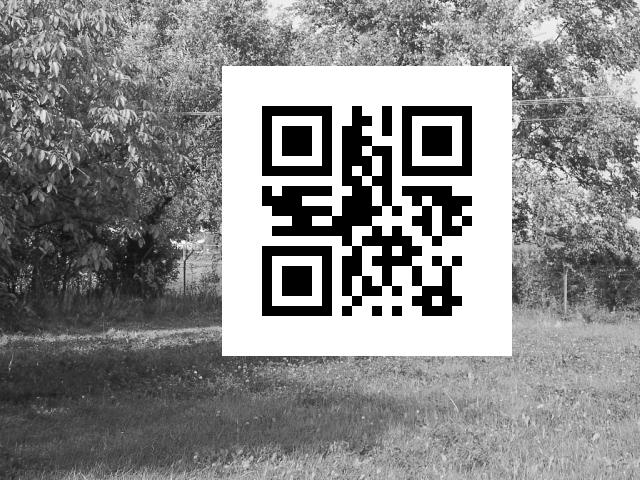qr_code: (222, 65, 513, 354)
